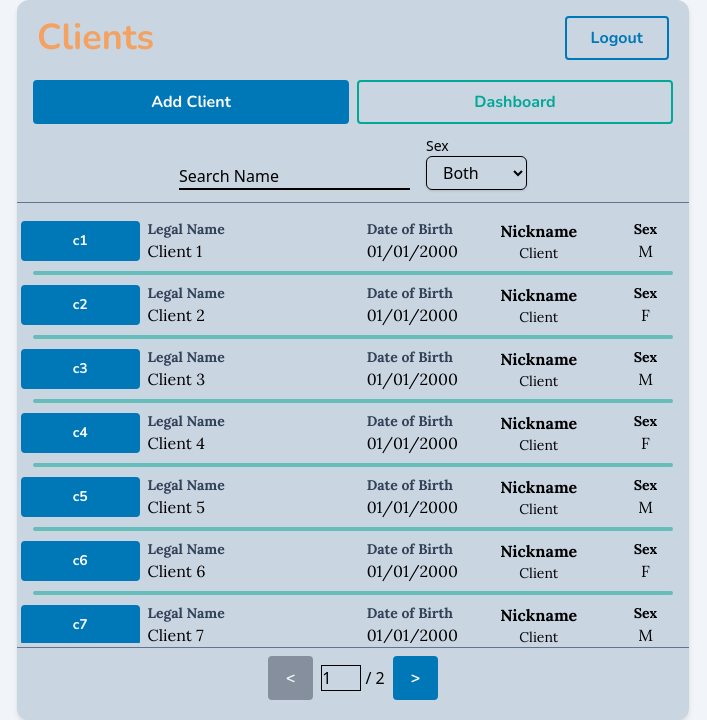
Test: View Clients List Page tests › Name Filter Tests › should filter the clients based on the name input
Expected: the button with test id "pagination-next" is shown, left=393, top=656, right=438, bottom=700
Step 1. Type "Client 1" into the field labelled "Search Name" → (294,177), box left=179, top=164, right=410, bottom=190
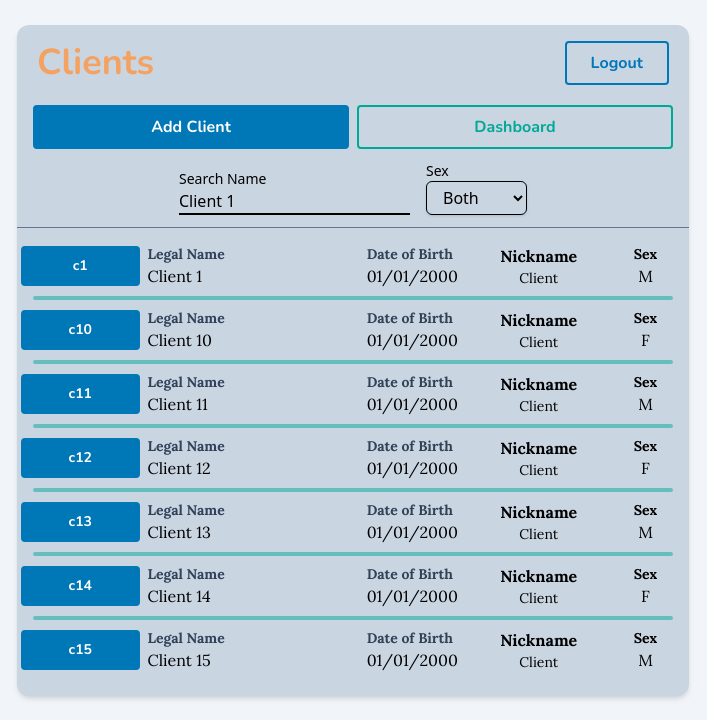
Expected: the text "Client 1" is shown, left=148, top=266, right=202, bottom=286
Now the text "Client 2" is gone
Now the button with test id "pagination-next" is gone
